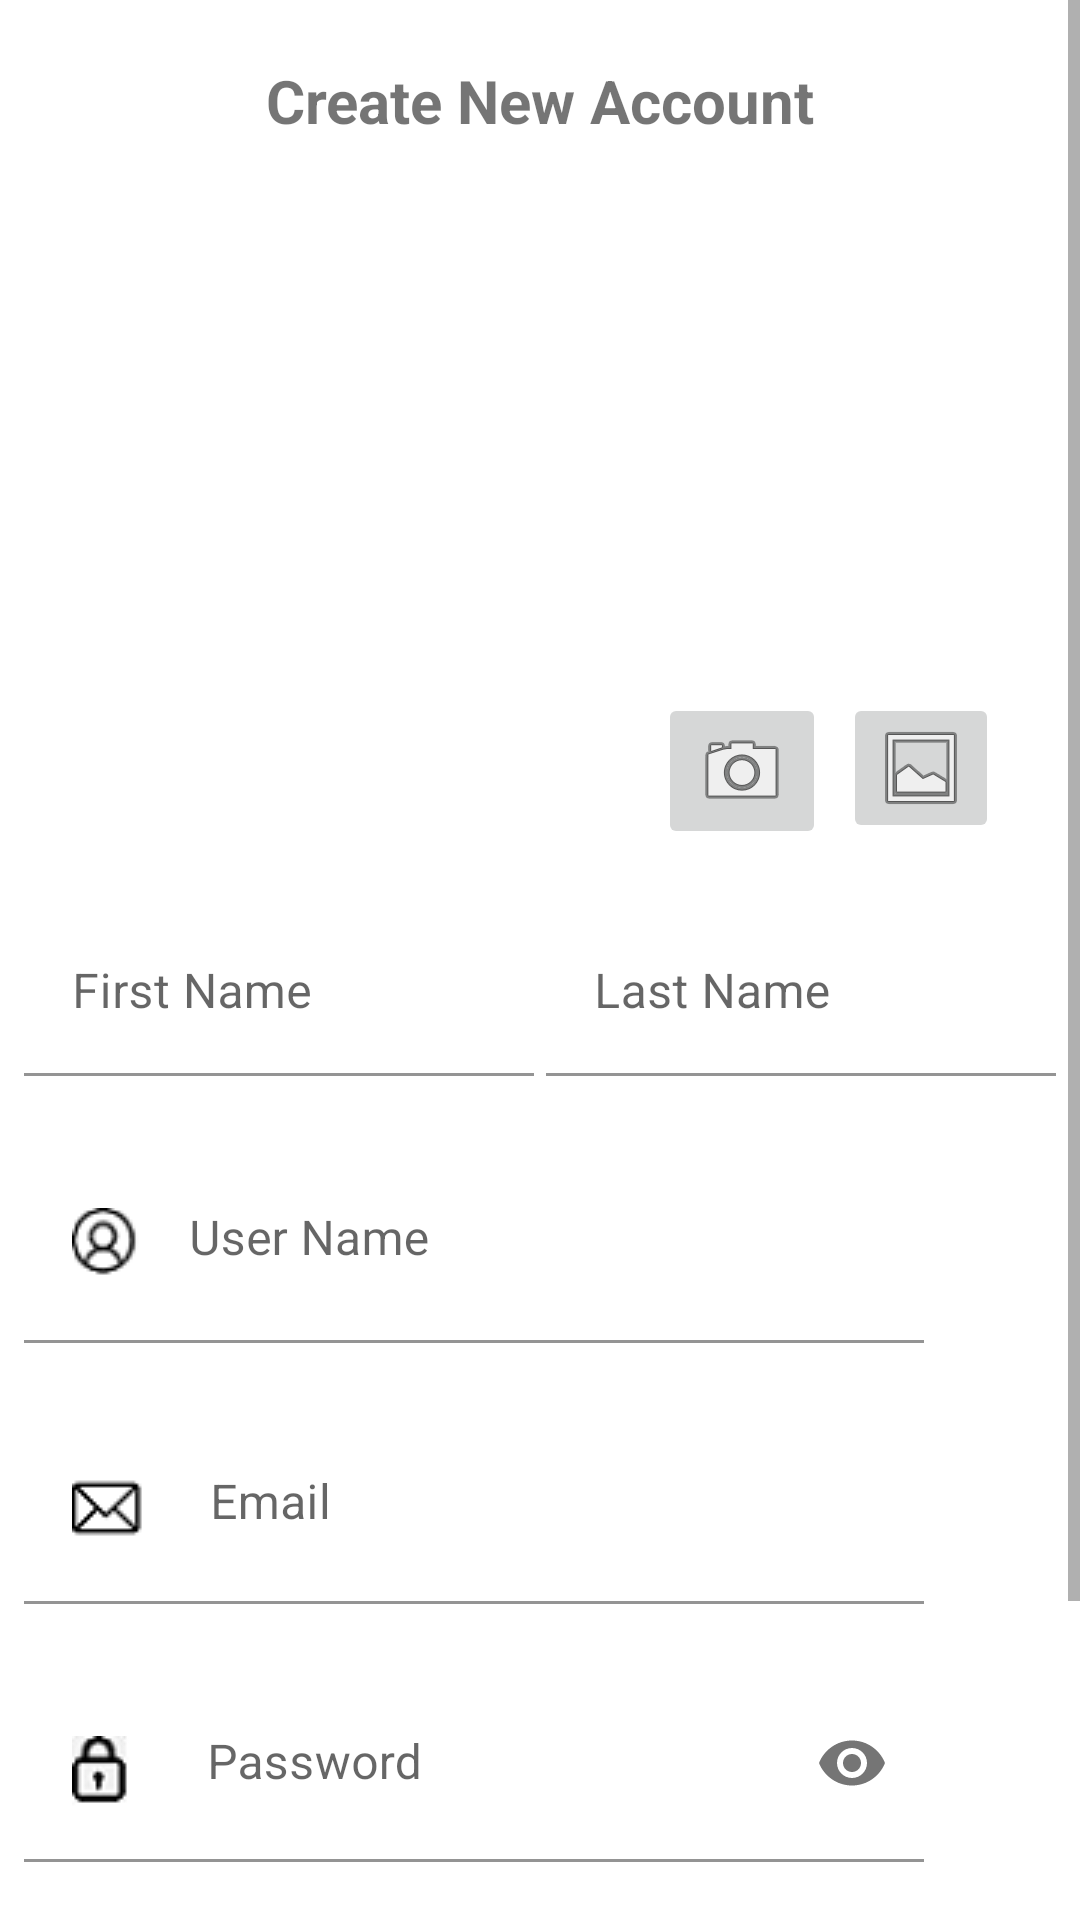

Where icons sit on this 1080×1920 app screen, as [x1,y1,x2,y2]:
camera: [670,711,814,831]
gallery: [855,711,987,825]
